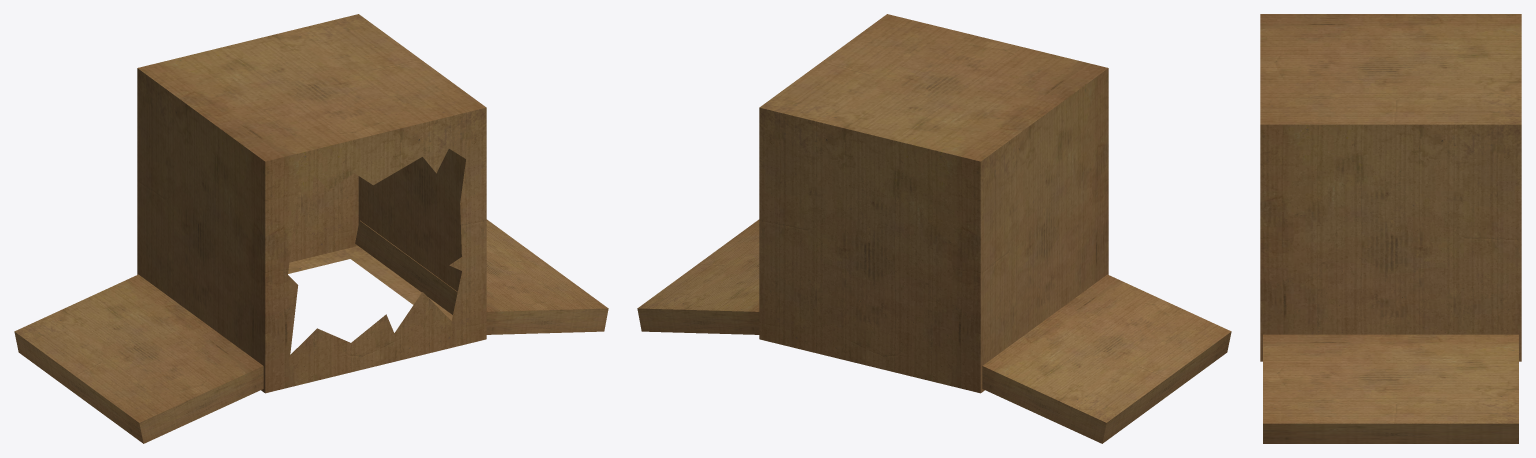
The model's file is Cardboard Helmet.glb.
The picture shows the model from 3 angles, left to right: view 1: azimuth 30°, elevation 25°; view 2: azimuth 150°, elevation 25°; view 3: azimuth 270°, elevation 25°; orthographic projection. The views are drawn at different scales.
Visible parts, largest first — view 1: Cube.001, Cube.003, Cube.002; view 2: Cube.001, Cube.003, Cube.002; view 3: Cube.001, Cube.002.
Boxes of the visible parts, left/top/right/bottom form: Cube.001: left=137, top=14, right=486, bottom=393; Cube.003: left=14, top=274, right=263, bottom=443; Cube.002: left=355, top=219, right=608, bottom=334; Cube.001: left=759, top=14, right=1108, bottom=393; Cube.003: left=982, top=274, right=1231, bottom=443; Cube.002: left=637, top=219, right=759, bottom=334; Cube.001: left=1260, top=14, right=1521, bottom=361; Cube.002: left=1263, top=334, right=1518, bottom=443.
Bounding box in the file's own units: 4.82 × 2.49 × 2.27.
Materials: 3 (3 with a texture image).
